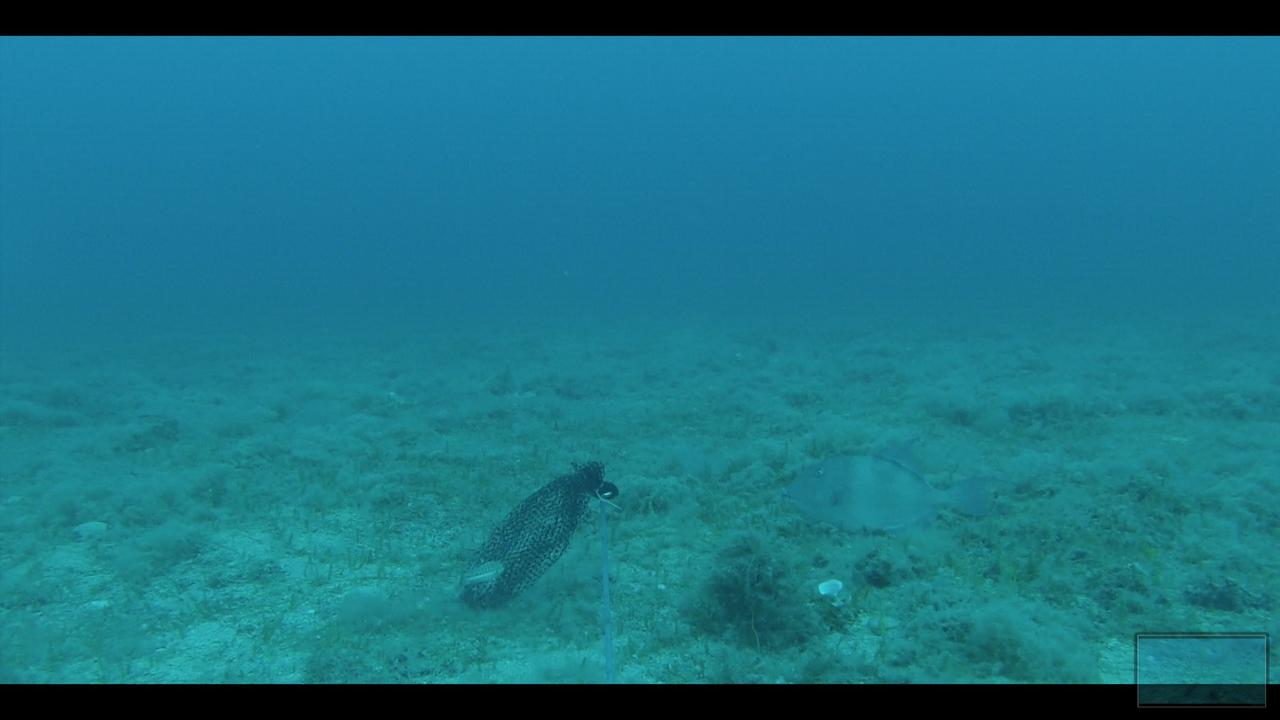balistes: (775, 435, 1009, 549)
